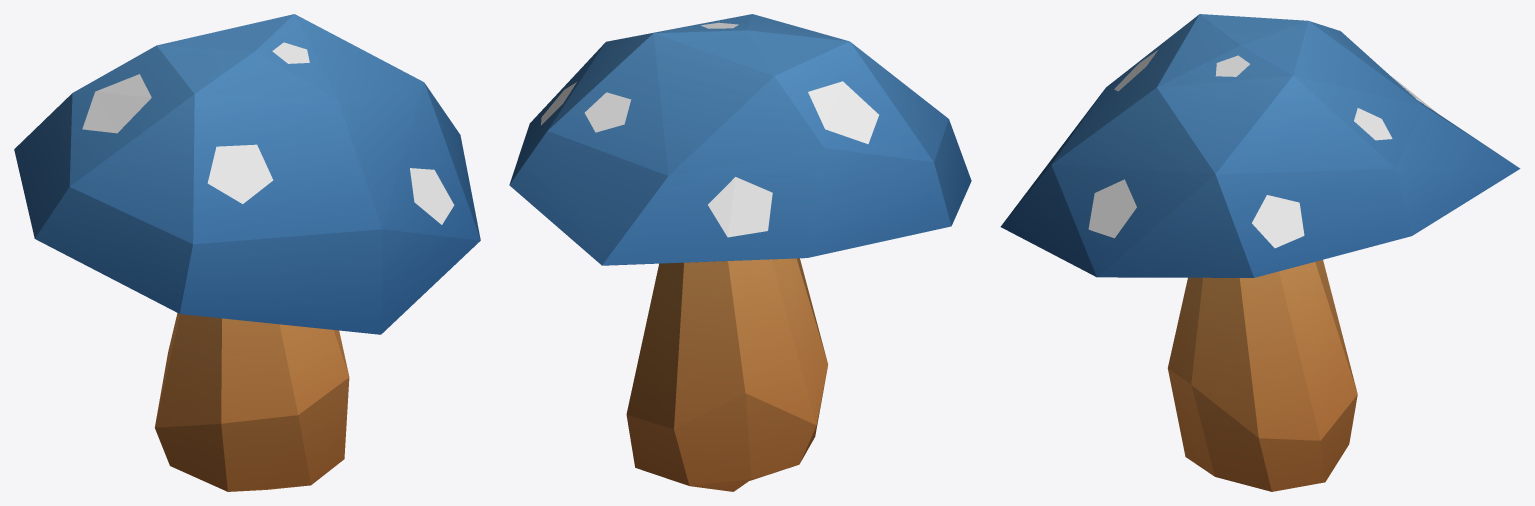
File: mushroom_blue_giant.fbx
3 views of the same model, side by side, from view 1: azimuth 30°, elevation 25°; view 2: azimuth 150°, elevation 25°; view 3: azimuth 270°, elevation 25° (orthographic). The views are drawn at different scales.
Parts seen in each view (by area): view 1: mushroom_blue_giant; view 2: mushroom_blue_giant; view 3: mushroom_blue_giant.
Boxes of the visible parts, x1,y1,x2,y2 form: mushroom_blue_giant: (14, 14, 480, 491); mushroom_blue_giant: (509, 14, 971, 491); mushroom_blue_giant: (1000, 14, 1520, 491).
Size of the model in its own units: 3.6 by 3.6 by 4.
Materials: 2 (1 with a texture image).
